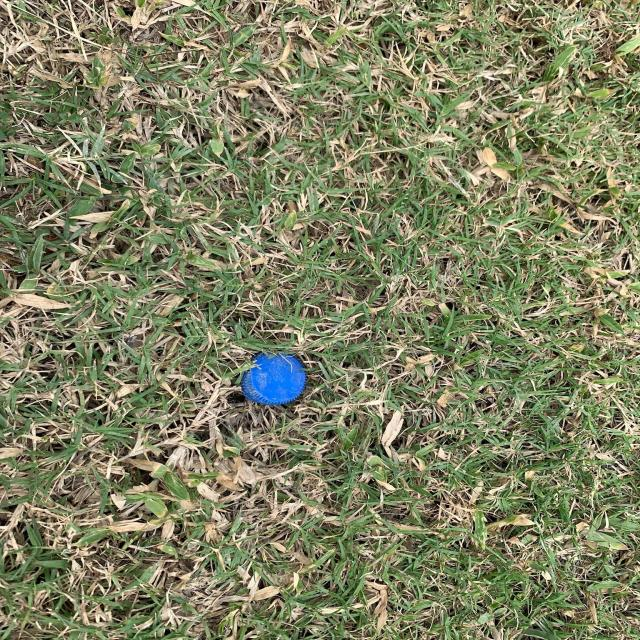litter: (238, 353, 310, 403)
